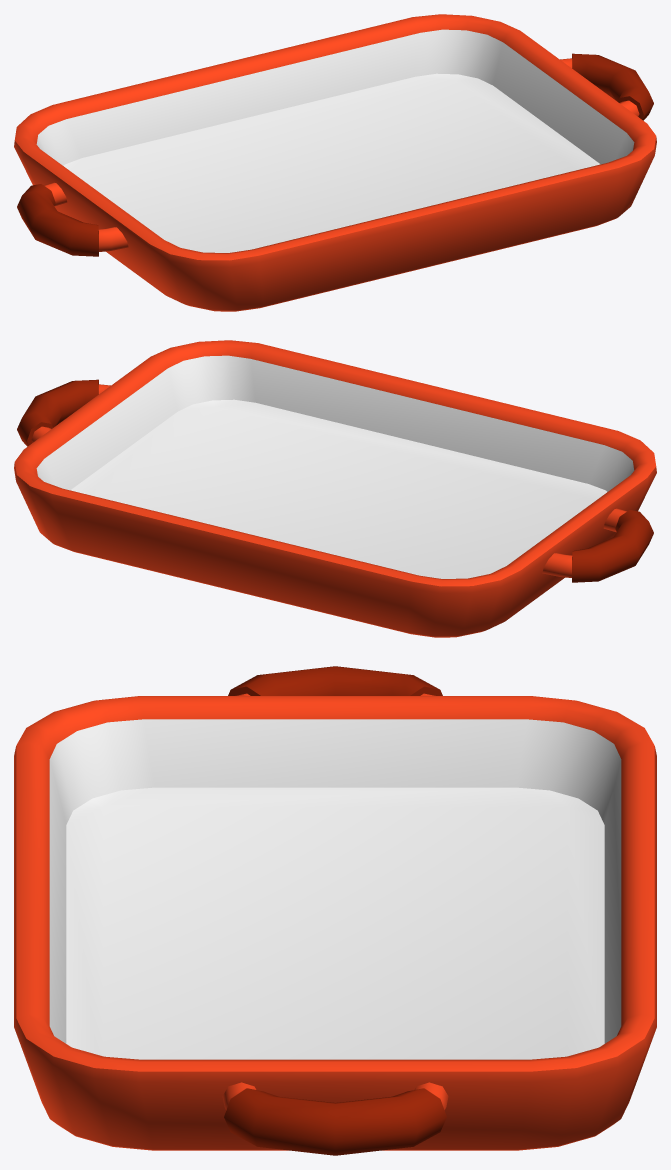
The model's file is Tray_01.fbx.
The picture shows the model from 3 angles, top to bottom: view 1: azimuth 30°, elevation 25°; view 2: azimuth 150°, elevation 25°; view 3: azimuth 270°, elevation 25°; orthographic projection. The views are drawn at different scales.
Visible parts, largest first — view 1: Tray_01; view 2: Tray_01; view 3: Tray_01.
Part boxes in pixels (box(x1,y1,x2,y2)): Tray_01: box(14, 14, 656, 311); Tray_01: box(14, 340, 656, 637); Tray_01: box(14, 666, 656, 1155).
Bounding box in the file's own units: 74.1 × 7.72 × 43.71.
